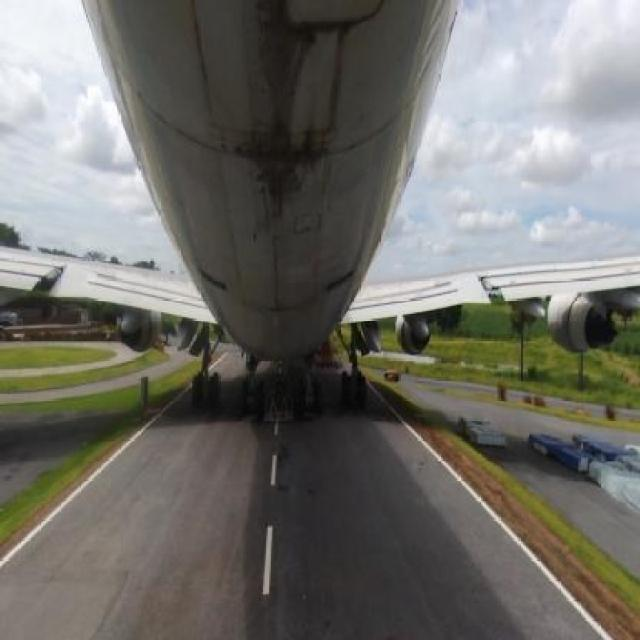Scartch: (147, 89, 410, 203), (221, 12, 397, 92)
